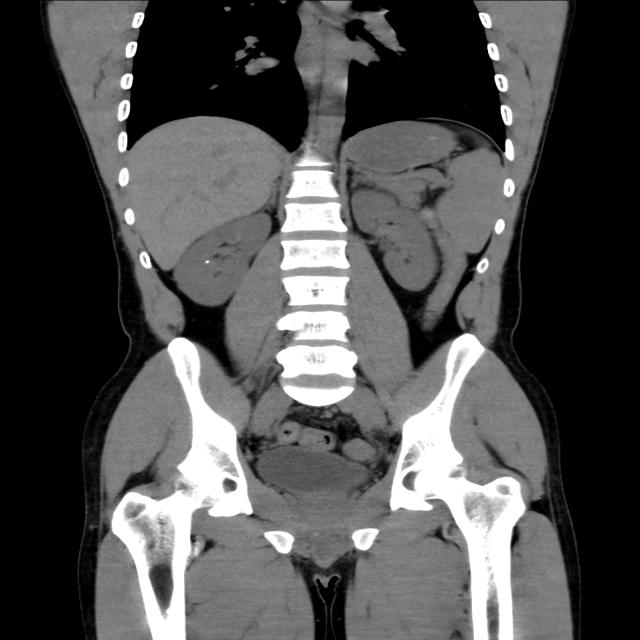kidneystone: (203, 260, 211, 264)
